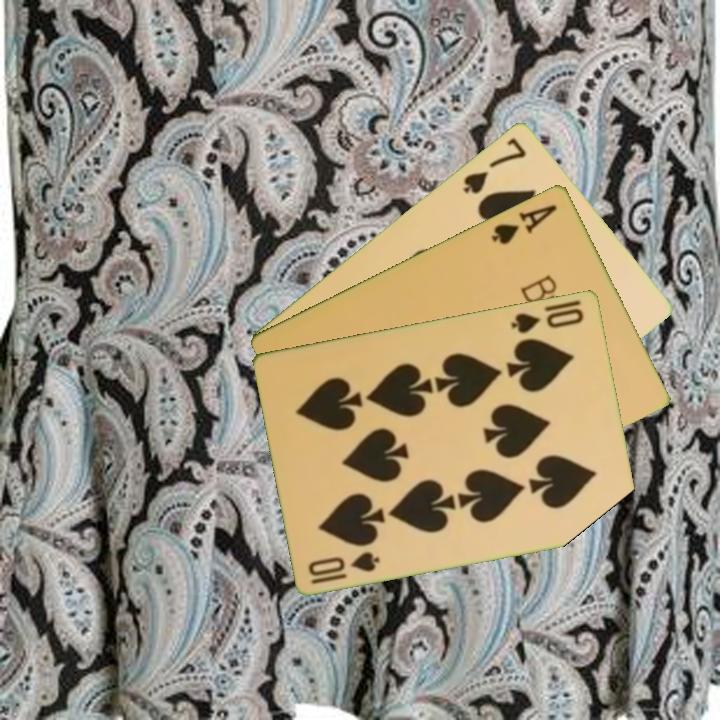10s: (305, 547, 384, 587), (507, 304, 587, 336)
7s: (459, 133, 529, 197)
As: (487, 200, 560, 247)
